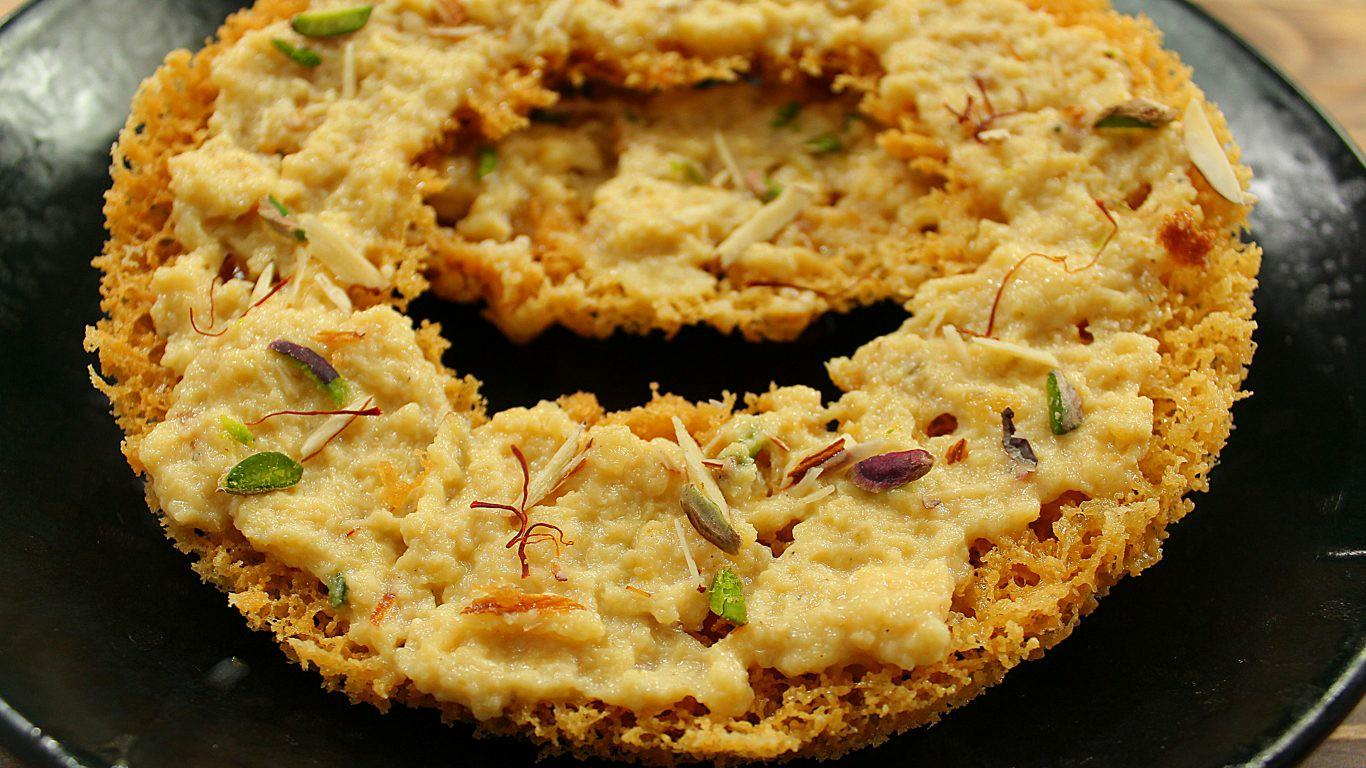Ghevar: (83, 0, 1262, 768)
